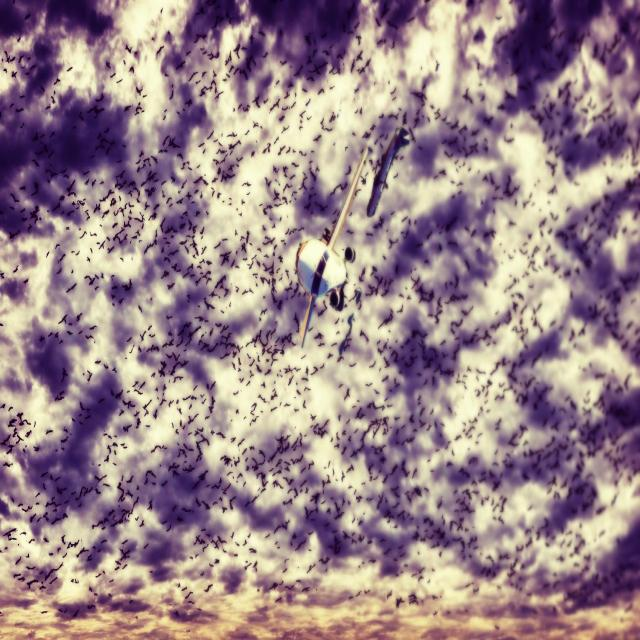airplane: (297, 146, 371, 347), (366, 127, 412, 217)
